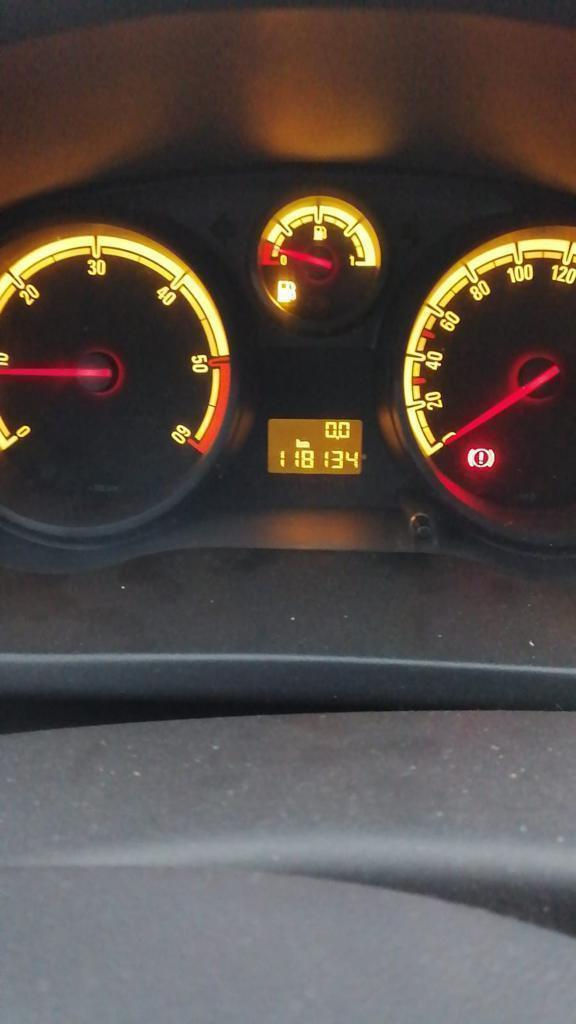,: (335, 435, 339, 440)
0: (323, 420, 337, 438), (337, 421, 351, 439)
1: (278, 449, 286, 468), (292, 449, 299, 468), (322, 450, 329, 468)
3: (329, 449, 343, 469)
4: (344, 449, 359, 469)
8: (300, 449, 315, 469)
X: (294, 438, 302, 448), (302, 440, 310, 448)
odometer: (261, 415, 368, 480)
